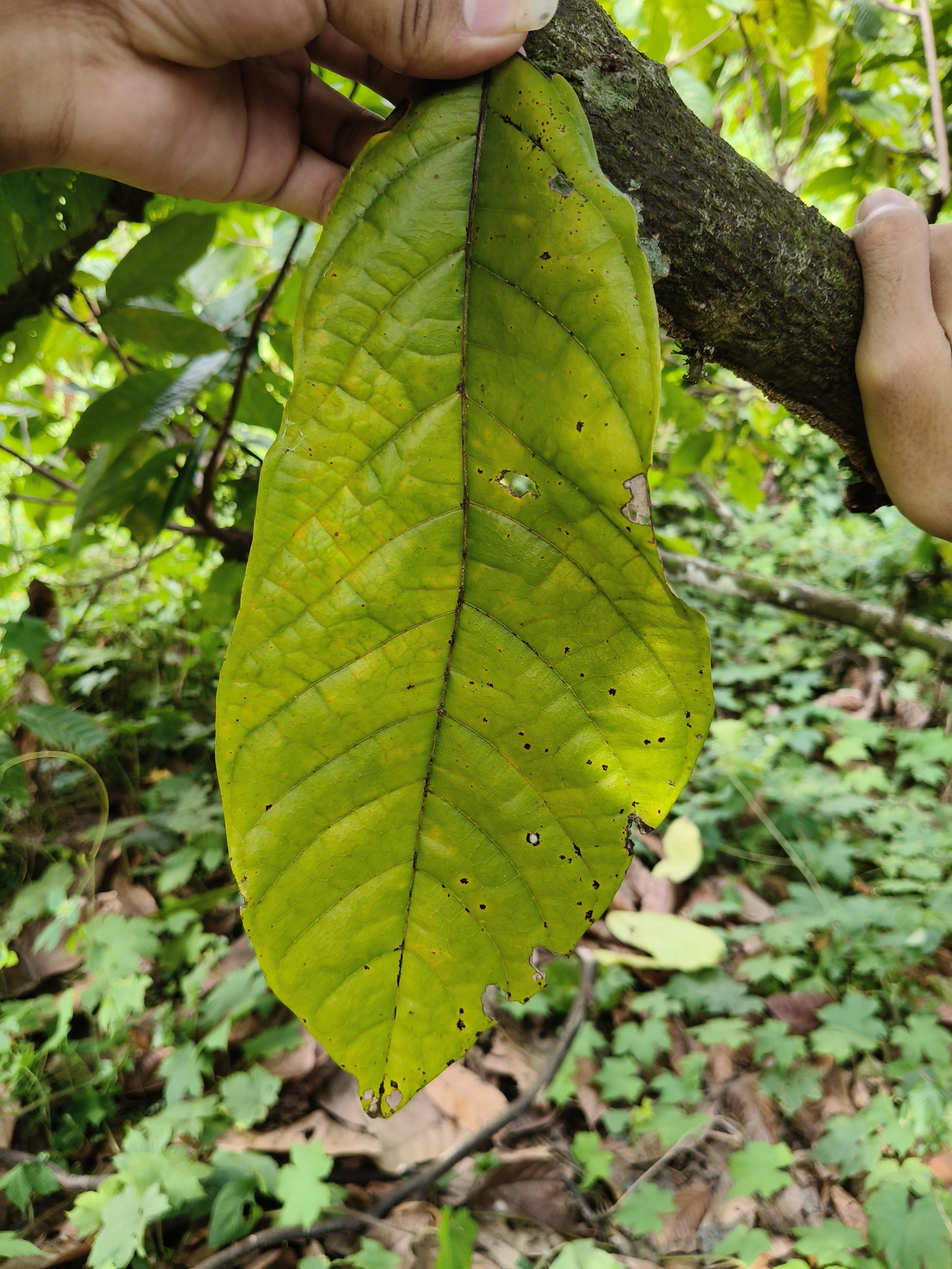deficiencia_potasio: (217, 54, 716, 1123)
